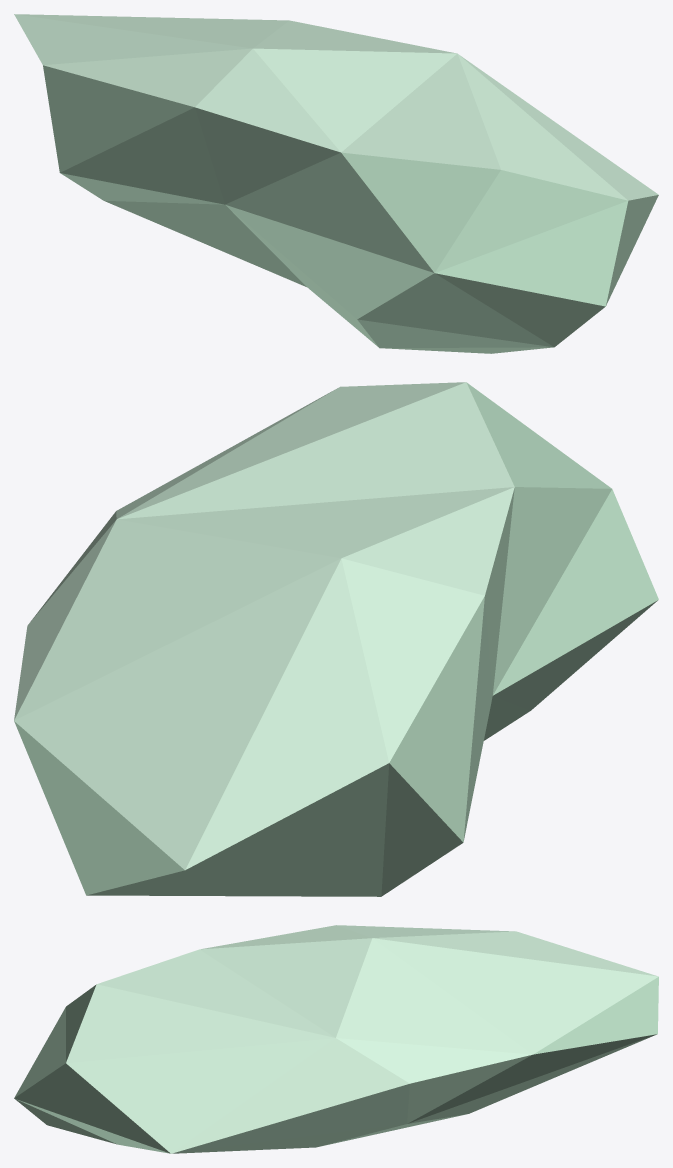
The picture shows the model from 3 angles, top to bottom: view 1: azimuth 30°, elevation 25°; view 2: azimuth 150°, elevation 25°; view 3: azimuth 270°, elevation 25°; orthographic projection. The views are drawn at different scales.
Visible parts, largest first — view 1: Object028; view 2: Object028; view 3: Object028.
Boxes of the visible parts, box(x1,y1,x2,y2) form: Object028: box(14, 14, 658, 353); Object028: box(14, 382, 658, 896); Object028: box(14, 925, 658, 1153).
Bounding box in the file's own units: 166 × 79.33 × 267.
